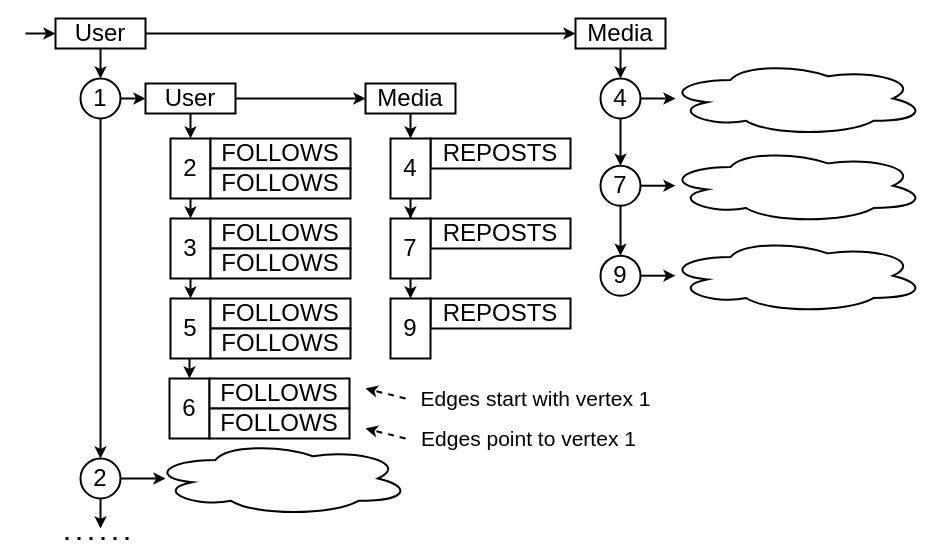
The diagram is 943 pixels wide and 558 high, and some of its shapes have lost their labels. Here are the shapes that lost their labels. From the top down, the centre of each, then its label:
(795,98): Neighbors of 4
(795,185): Neighbors of 7
(795,275): Neighbors of 9
(280,478): Neighbors of 2
